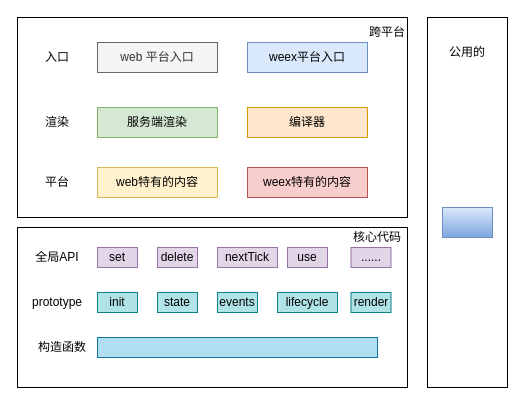
Some shapes in this 525 by 405 pixel diagram are drawn without their labels. Each missing label, with the centre of its shape:
"shared" goes at [467,222].
"vue 构造函数" goes at [237,347].
